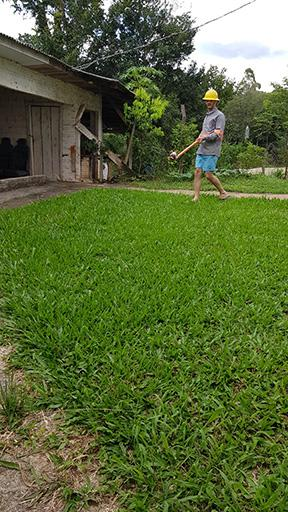Capacete: (202, 88, 219, 110)
